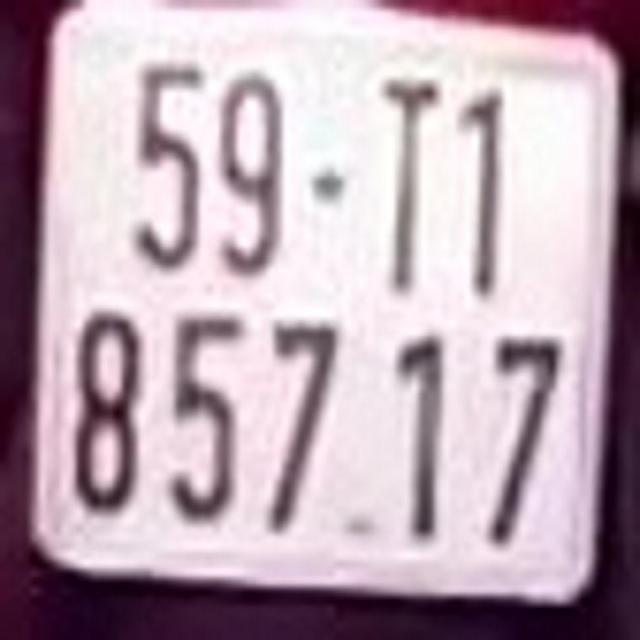1: (387, 324, 452, 543), (456, 79, 516, 298)
5: (167, 296, 246, 518), (132, 46, 206, 268)
7: (265, 302, 338, 532), (490, 322, 561, 548)
8: (70, 299, 141, 512)
9: (216, 58, 284, 273)
T: (376, 62, 444, 294)
